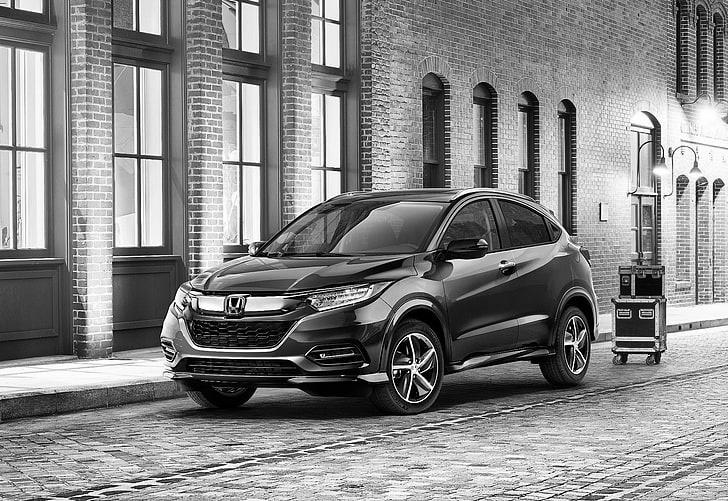Car hood: (178, 248, 421, 293)
Fender - -F-L-: (377, 246, 452, 371)
Fender - -R-L-: (564, 241, 595, 305)
Front bumper: (156, 298, 397, 388)
Headlight - -L-: (301, 278, 400, 315)
Headlight - -R-: (167, 282, 197, 323)
Passenger-s door - -F-L-: (439, 191, 519, 366)
Passenger-s door - -R-L-: (501, 192, 571, 359)
Rear bumper: (584, 295, 609, 348)
Rear light - -L-: (574, 240, 594, 267)
Side bumper - -L-: (440, 336, 563, 378)
Side mirror - -L-: (436, 235, 494, 264)
Side mirror - -R-: (244, 238, 271, 259)
